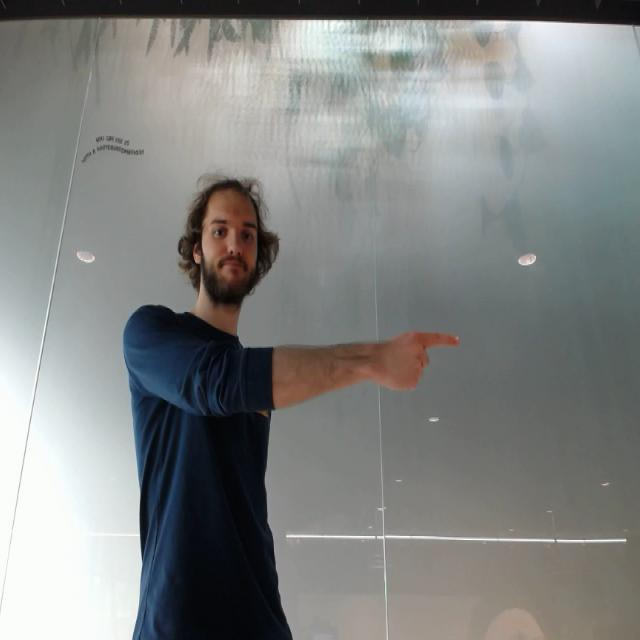right: (367, 324, 465, 398)
